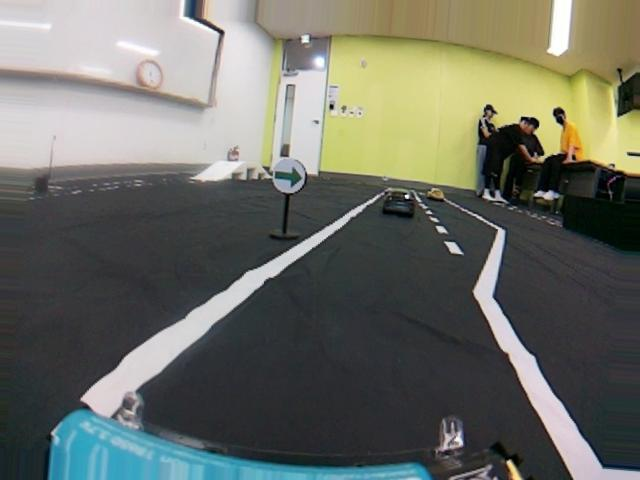car: (383, 187, 412, 214), (429, 186, 449, 203)
sign_right: (270, 157, 308, 196)
straight: (6, 187, 640, 480)
